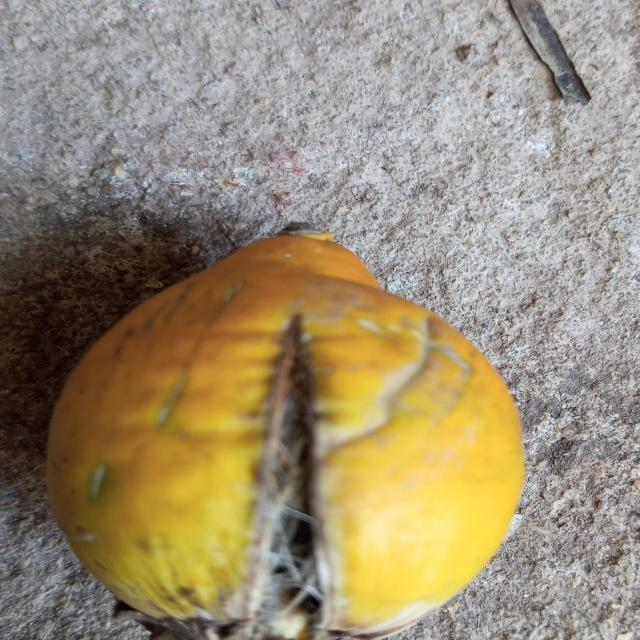damaged: (45, 229, 526, 640)
